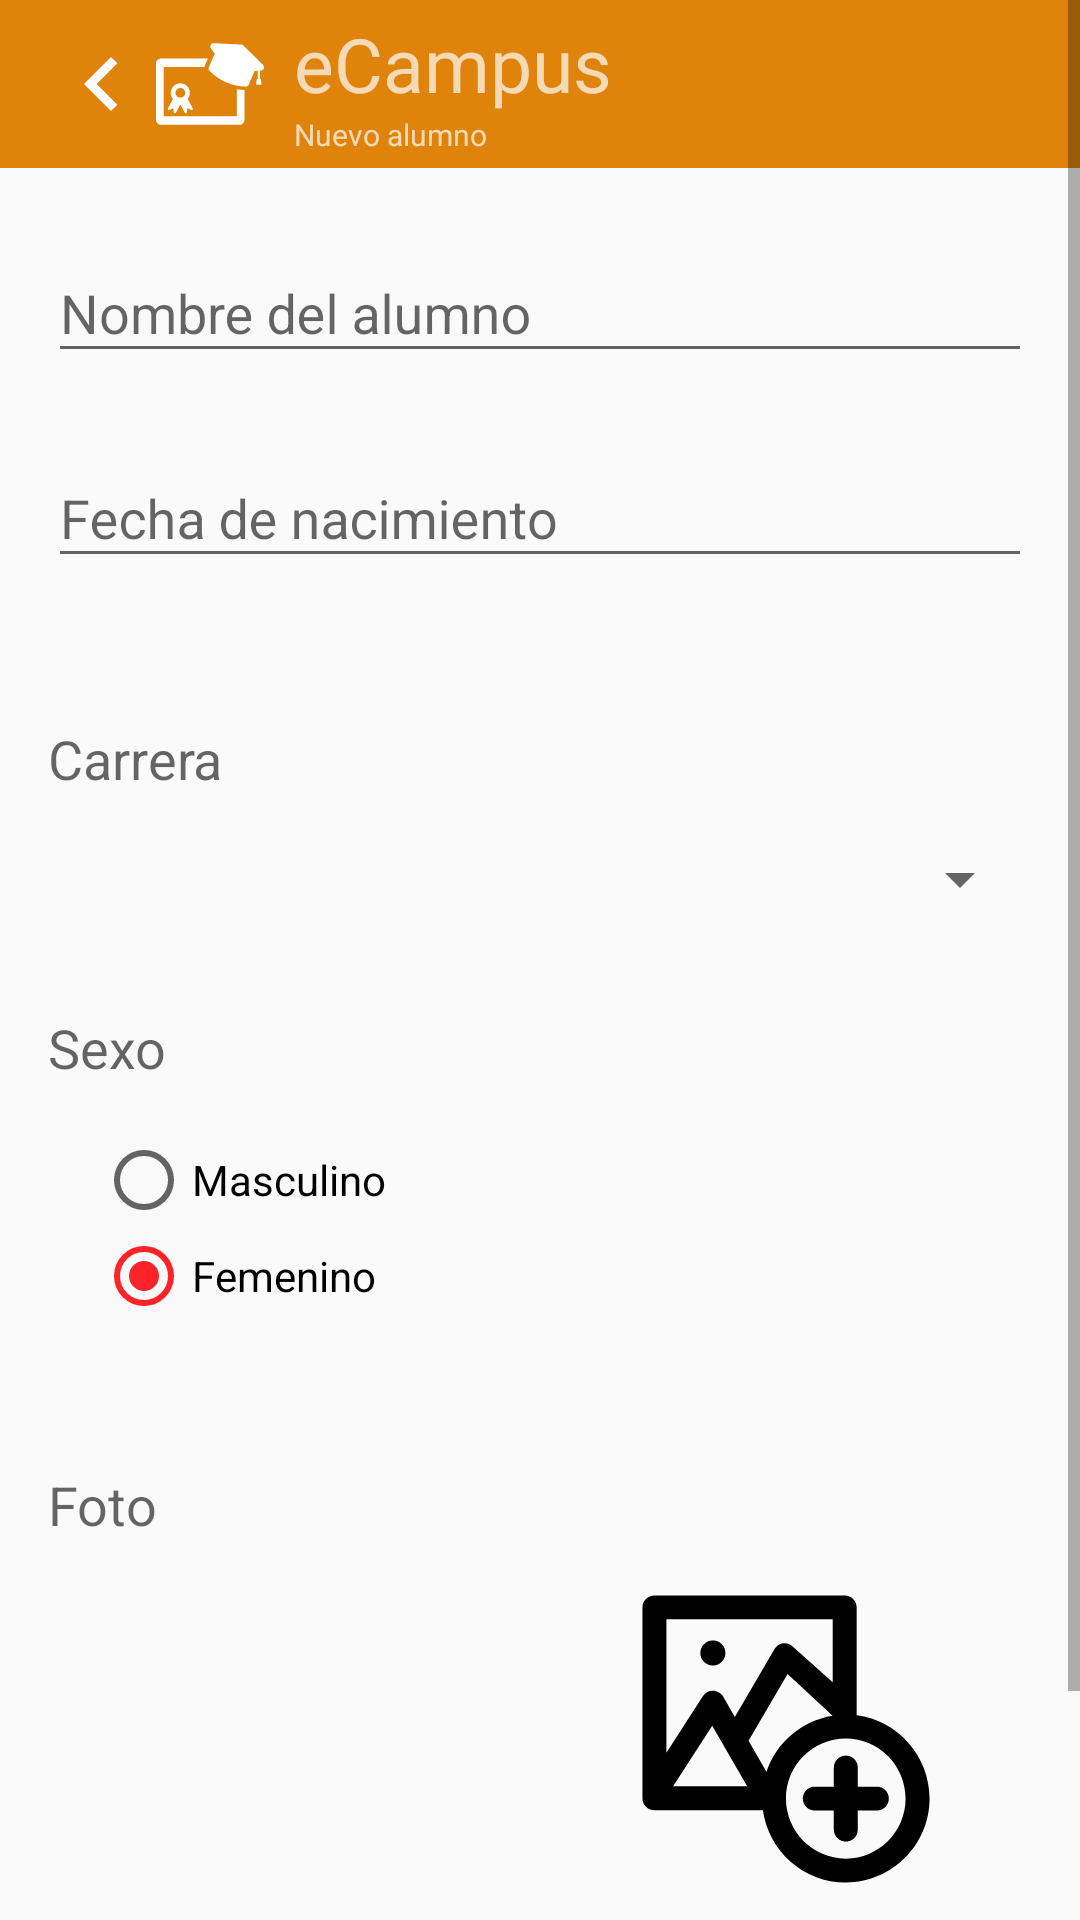

Named icons in this screenshot (1080x1920) and their bounding boxes, (x1, y1, x2, y2):
add photo: (642, 1595, 930, 1883)
back toolbar: (84, 57, 118, 111)
